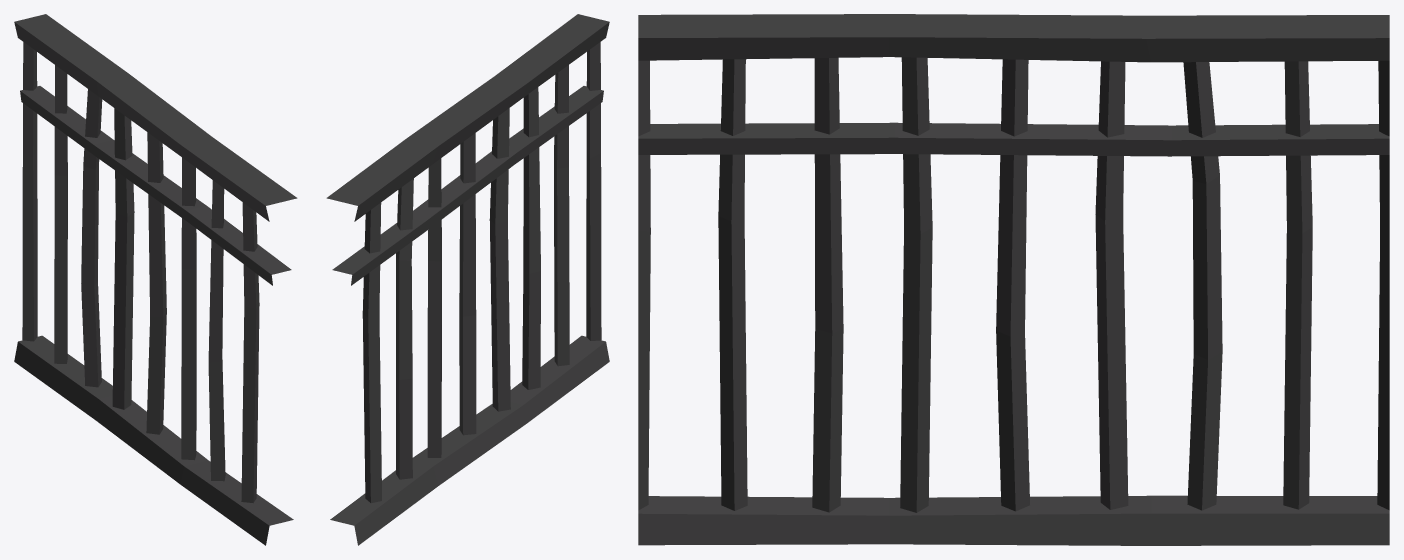
File: Prison_Wall.gltf
3 views of the same model, side by side, from view 1: azimuth 30°, elevation 25°; view 2: azimuth 150°, elevation 25°; view 3: azimuth 270°, elevation 25° (orthographic). The views are drawn at different scales.
Visible parts, largest first — view 1: Prison_Wall2; view 2: Prison_Wall2; view 3: Prison_Wall2.
Boxes of the visible parts, x1,y1,x2,y2 form: Prison_Wall2: (14, 14, 297, 545); Prison_Wall2: (326, 14, 609, 545); Prison_Wall2: (638, 14, 1389, 545).
Size of the model in its own units: 0.0783 by 0.745 by 1.
Materials: 1 (1 with a texture image).
